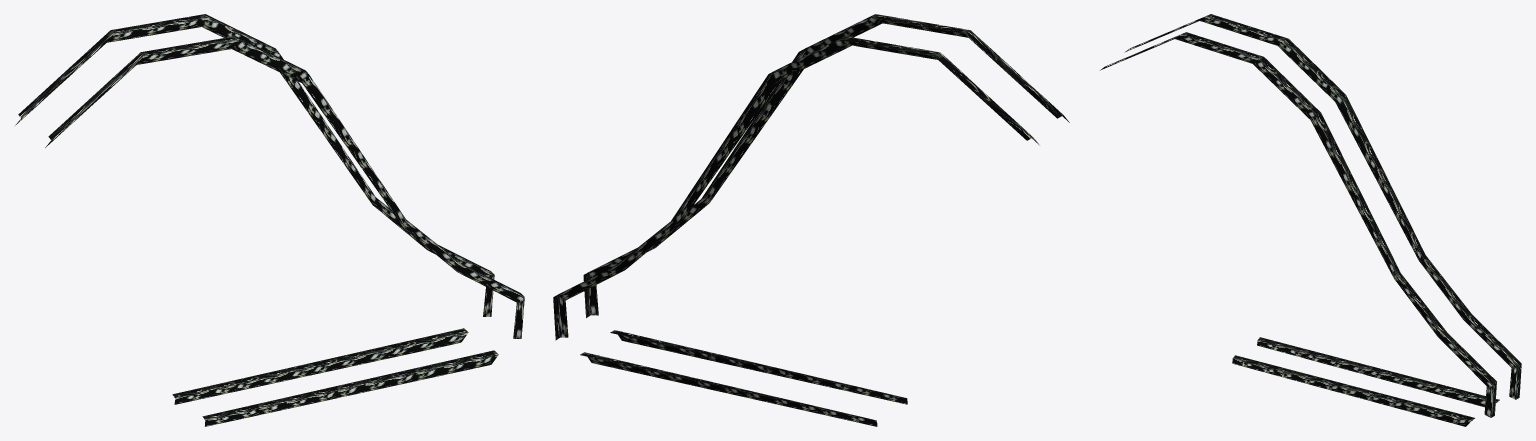
Rendered from liantiao.fbx.
3 renders of one model, left to right at view 1: azimuth 30°, elevation 25°; view 2: azimuth 150°, elevation 25°; view 3: azimuth 330°, elevation 25°, orthographic. The views are drawn at different scales.
Parts seen in each view (by area): view 1: liantian; view 2: liantian; view 3: liantian.
Boxes of the visible parts, box(x1,y1,x2,y2) form: liantian: box(14, 14, 524, 426); liantian: box(553, 14, 1069, 426); liantian: box(1100, 14, 1521, 426).
Size of the model in its own units: 592 by 463 by 75.69.
